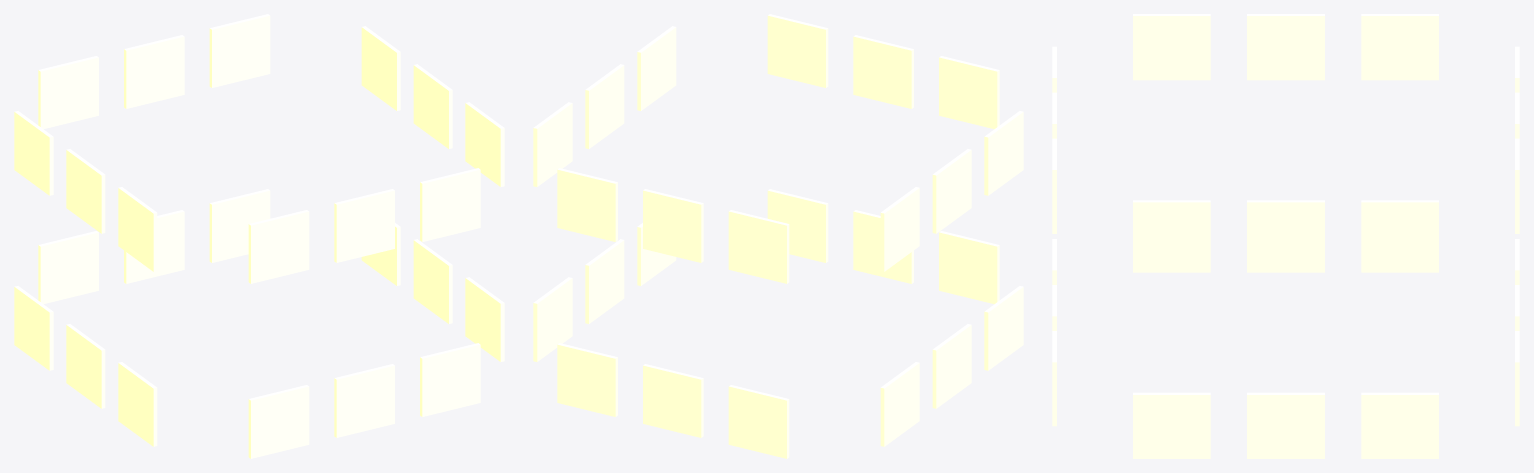
Rendered from building-i.glb.
3 renders of one model, left to right at view 1: azimuth 30°, elevation 25°; view 2: azimuth 150°, elevation 25°; view 3: azimuth 270°, elevation 25°, orthographic. The views are drawn at different scales.
Visible parts, largest first — view 1: WindowLight_front_1_0, WindowLight_back_1_2, WindowLight_front_0_0, WindowLight_front_0_2, WindowLight_front_1_2, WindowLight_back_1_1, WindowLight_front_0_1, WindowLight_front_1_1, WindowLight_back_0_0, WindowLight_back_1_0, WindowLight_back_0_2, WindowLight_left_0_0 (+12 smaller); view 2: WindowLight_back_1_0, WindowLight_back_0_0, WindowLight_front_1_2, WindowLight_back_0_2, WindowLight_back_1_2, WindowLight_back_0_1, WindowLight_back_1_1, WindowLight_front_1_1, WindowLight_front_0_0, WindowLight_front_1_0, WindowLight_front_0_2, WindowLight_left_0_2 (+12 smaller); view 3: WindowLight_left_1_0, WindowLight_left_1_1, WindowLight_left_1_2, WindowLight_right_0_0, WindowLight_right_0_1, WindowLight_right_0_2, WindowLight_right_1_0, WindowLight_right_1_1, WindowLight_right_1_2, WindowLight_left_0_0, WindowLight_left_0_1, WindowLight_left_0_2 (+4 smaller).
Boxes of the visible parts, x1,y1,x2,y2 form: WindowLight_front_1_0: (248, 210, 309, 283); WindowLight_back_1_2: (209, 14, 270, 87); WindowLight_front_0_0: (248, 385, 309, 458); WindowLight_front_0_2: (420, 343, 480, 416); WindowLight_front_1_2: (420, 168, 480, 241); WindowLight_back_1_1: (124, 35, 184, 108); WindowLight_front_0_1: (334, 364, 394, 437); WindowLight_front_1_1: (334, 189, 394, 262); WindowLight_back_0_0: (38, 231, 98, 304); WindowLight_back_1_0: (38, 56, 98, 129); WindowLight_back_0_2: (209, 189, 270, 262); WindowLight_left_0_0: (118, 362, 157, 446); WindowLight_back_1_0: (728, 210, 789, 283); WindowLight_back_0_0: (728, 385, 789, 458); WindowLight_front_1_2: (767, 14, 828, 87); WindowLight_back_0_2: (557, 343, 617, 416); WindowLight_back_1_2: (557, 168, 617, 241); WindowLight_back_0_1: (643, 364, 703, 437); WindowLight_back_1_1: (643, 189, 703, 262); WindowLight_front_1_1: (853, 35, 913, 108); WindowLight_front_0_0: (939, 231, 999, 304); WindowLight_front_1_0: (939, 56, 999, 129); WindowLight_front_0_2: (767, 189, 828, 262); WindowLight_left_0_2: (880, 362, 919, 446); WindowLight_left_1_0: (1133, 14, 1210, 80); WindowLight_left_1_1: (1247, 14, 1324, 80); WindowLight_left_1_2: (1361, 14, 1438, 80); WindowLight_right_0_0: (1133, 392, 1210, 458); WindowLight_right_0_1: (1247, 392, 1324, 458); WindowLight_right_0_2: (1361, 392, 1438, 458); WindowLight_right_1_0: (1133, 200, 1210, 266); WindowLight_right_1_1: (1247, 200, 1324, 266); WindowLight_right_1_2: (1361, 200, 1438, 266); WindowLight_left_0_0: (1133, 266, 1210, 272); WindowLight_left_0_1: (1247, 266, 1324, 272); WindowLight_left_0_2: (1361, 266, 1438, 272).
Size of the model in its own units: 1.27 by 0.8064 by 1.33.
